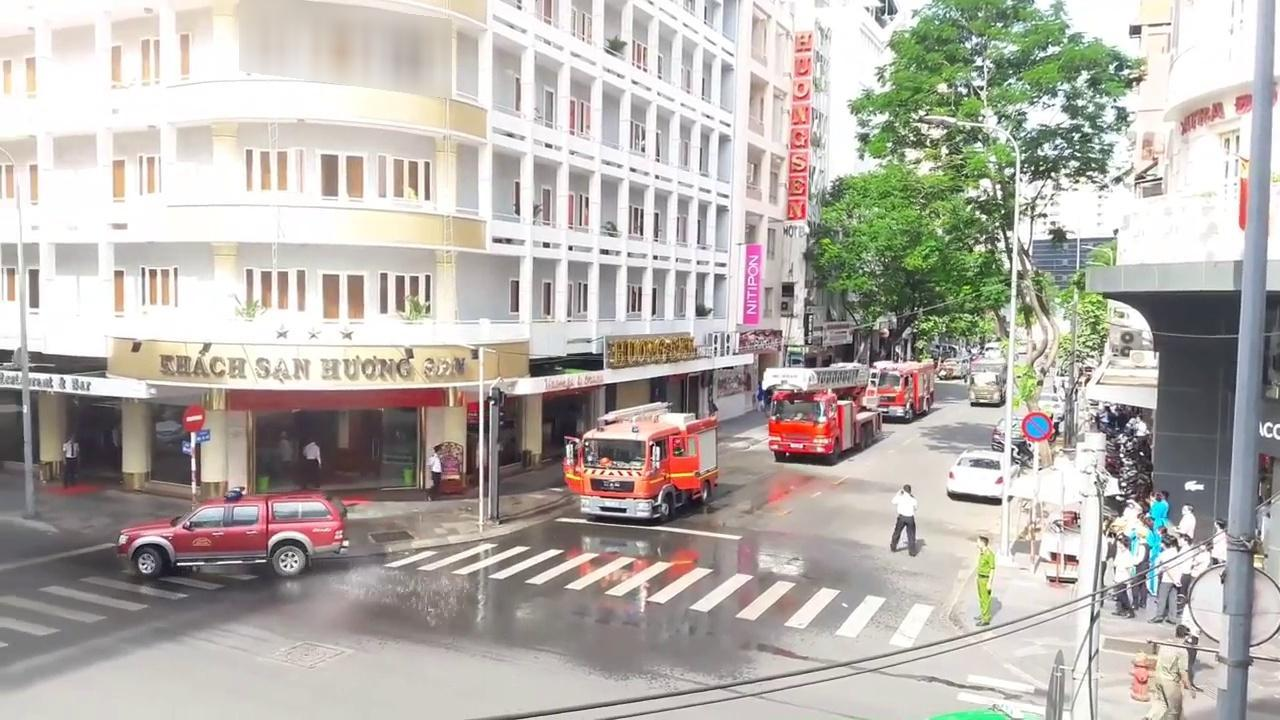xe cuu hoa: (562, 402, 718, 521), (762, 361, 882, 463)
xe hoi: (118, 485, 346, 576), (946, 450, 1002, 500)
